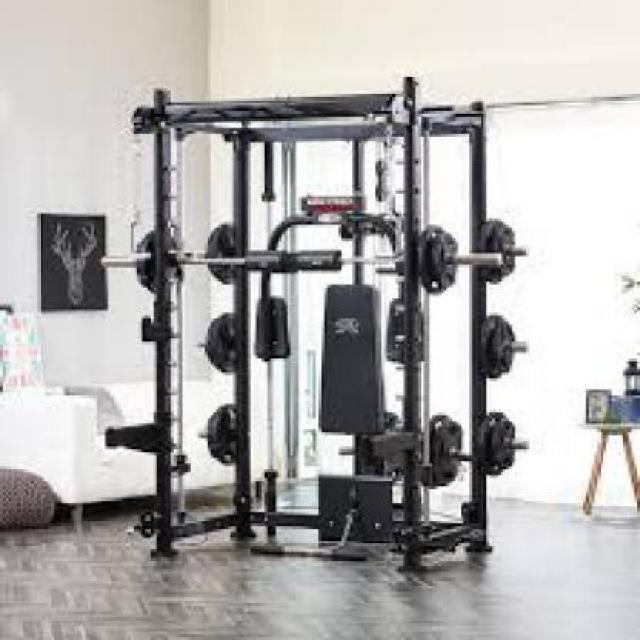smith machine: (108, 86, 529, 569)
